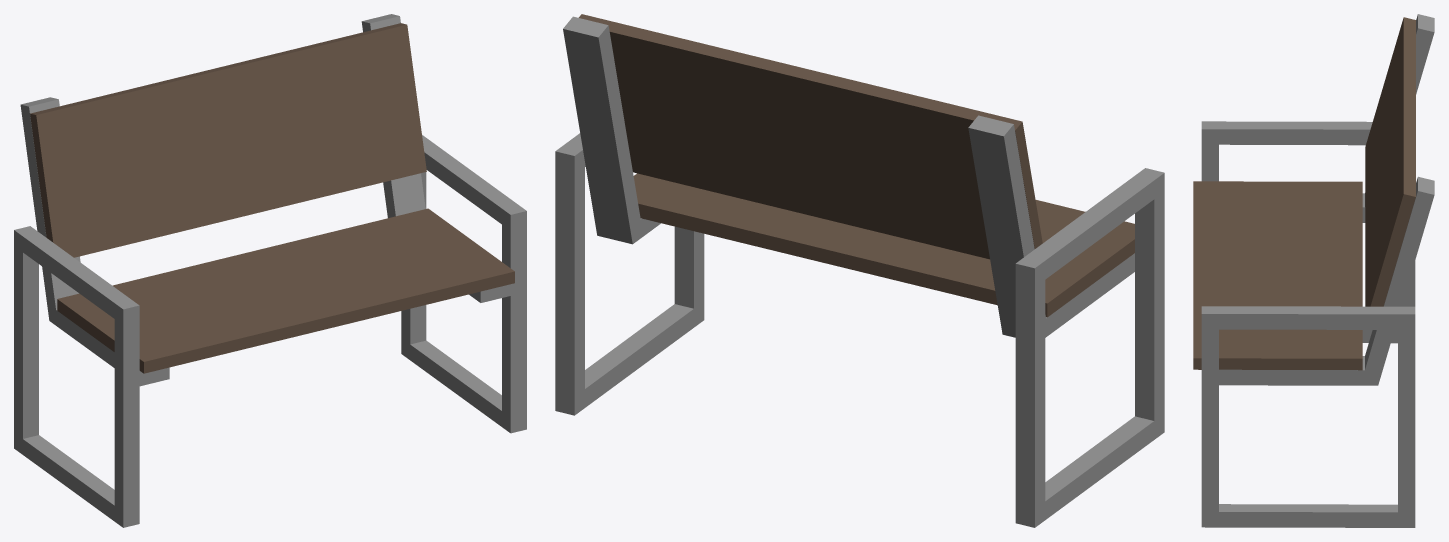
File: Bench_1.fbx
3 renders of one model, left to right at view 1: azimuth 30°, elevation 25°; view 2: azimuth 150°, elevation 25°; view 3: azimuth 270°, elevation 25°, orthographic. The views are drawn at different scales.
Parts seen in each view (by area): view 1: Bench_1; view 2: Bench_1; view 3: Bench_1.
Boxes of the visible parts, x1,y1,x2,y2 form: Bench_1: (14,14,526,527); Bench_1: (555,14,1164,527); Bench_1: (1193,14,1434,527).
Bounding box in the file's own units: 114 × 60.54 × 91.19.
